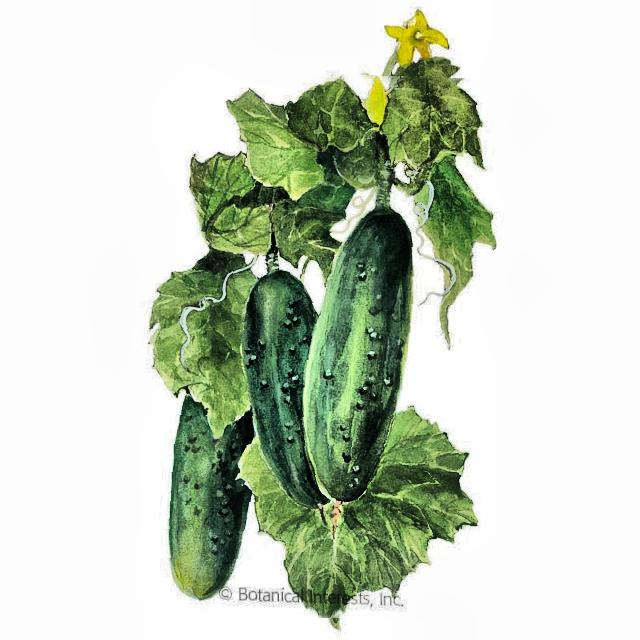cucumber: (88, 69, 518, 621)
